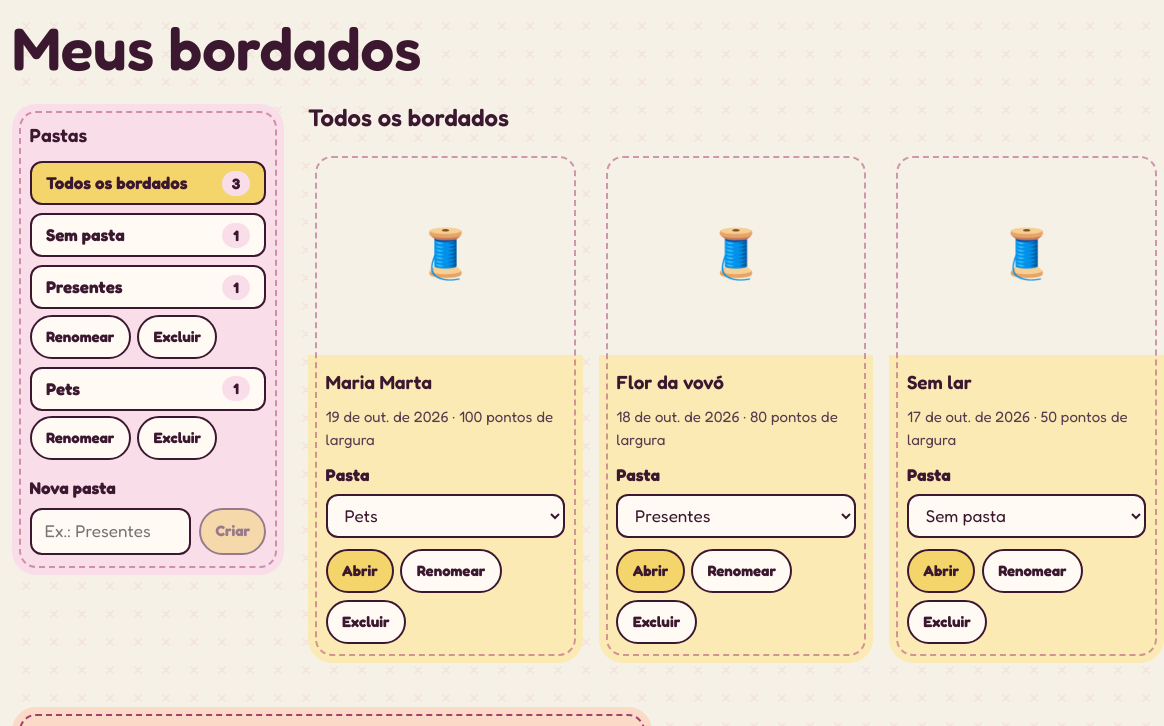
LibraryPage › deleting a folder keeps its embroideries, which become "without folder"
Expected: the heading "Maria Marta" is shown, [326,370,432,393]
Click the button with aria-label "Excluir a pasta Pets". click: click(177, 438)
box: [137,416,217,460]
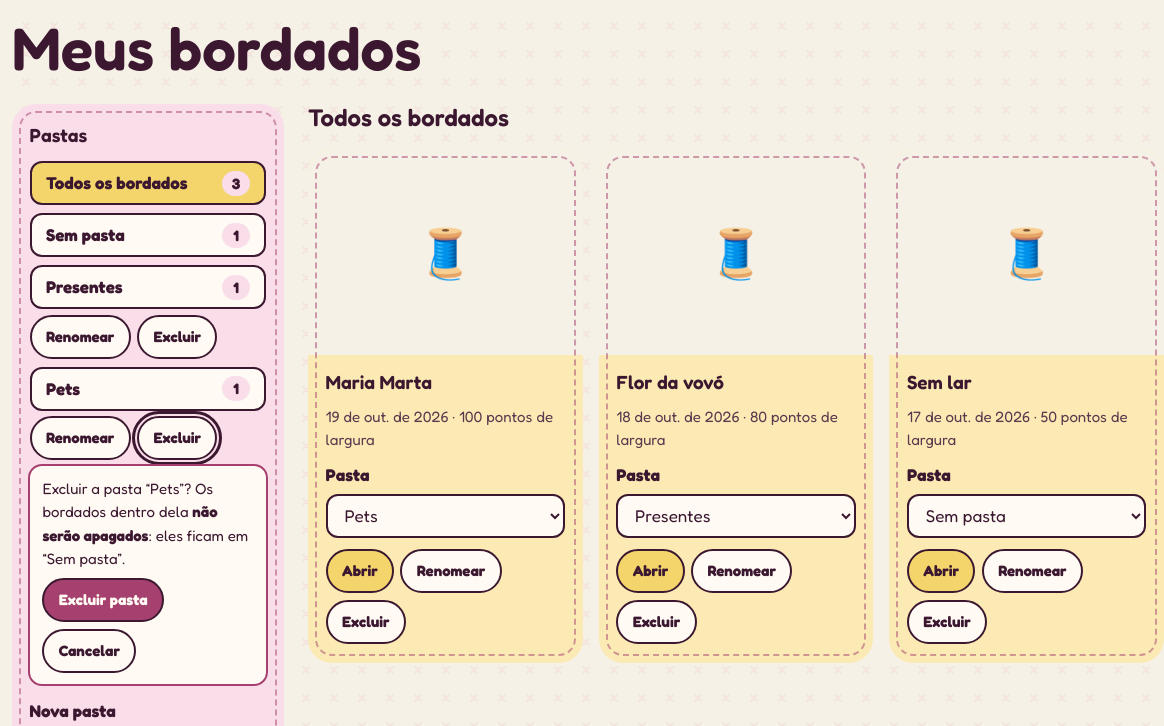
Click the button "Excluir pasta". click: click(103, 600)
box: [42,578,164,622]
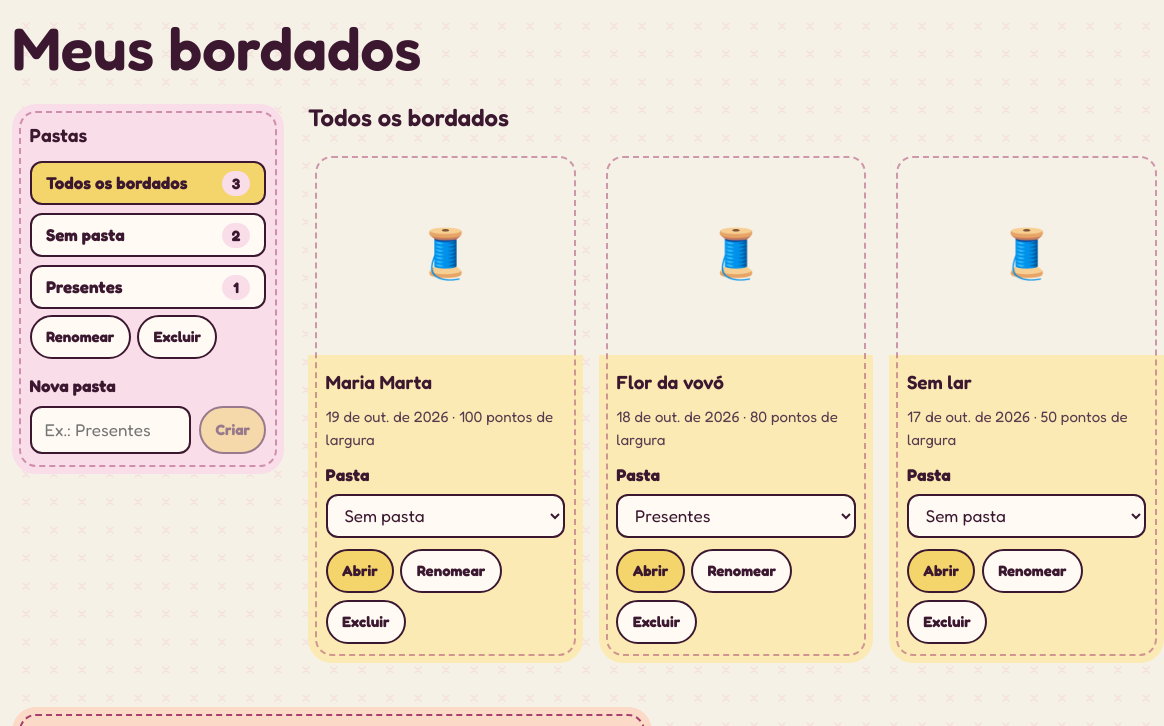
Expected: the heading "Maria Marta" is shown, [326,370,432,393]
Result: the button "Pets" is gone
Result: the button "Sem pasta 2" is shown at [30,213,266,257]
